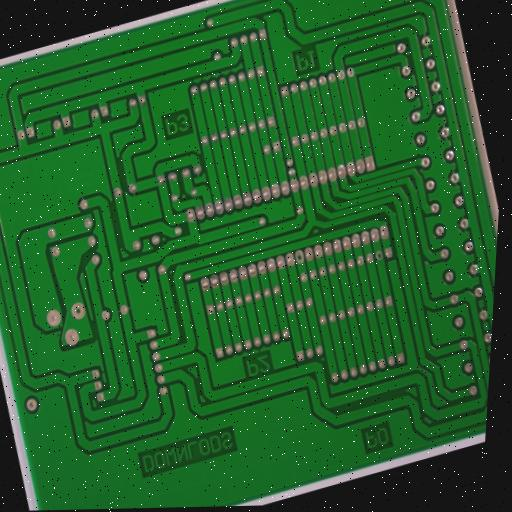missing_hole: (67, 298, 89, 322), (292, 248, 306, 266), (372, 246, 386, 264)
